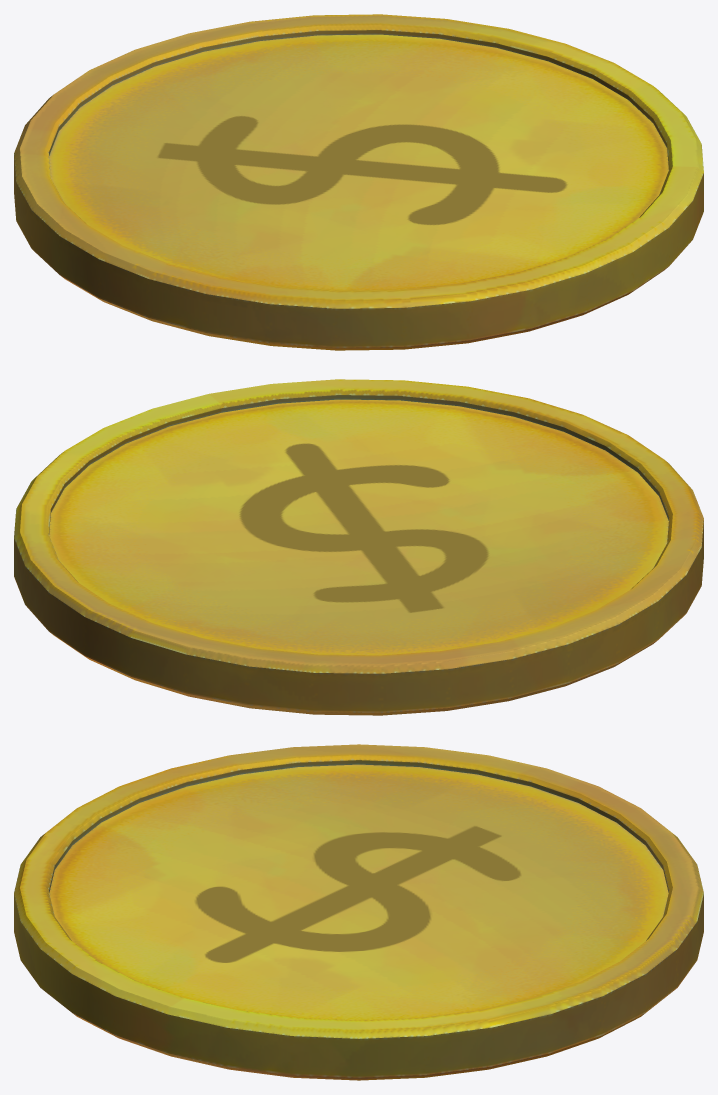
Rendered from pip2_coin_bm.fbx.
The picture shows the model from 3 angles, top to bottom: view 1: azimuth 30°, elevation 25°; view 2: azimuth 150°, elevation 25°; view 3: azimuth 270°, elevation 25°; orthographic projection.
Parts seen in each view (by area): view 1: coin; view 2: coin; view 3: coin.
Boxes of the visible parts, x1=… form: coin: x1=14, y1=14, x2=703, y2=350; coin: x1=14, y1=379, x2=703, y2=715; coin: x1=14, y1=744, x2=703, y2=1080.
Bounding box in the file's own units: 0.8691 × 0.0688 × 0.8691.
Materials: 1 (1 with a texture image).
